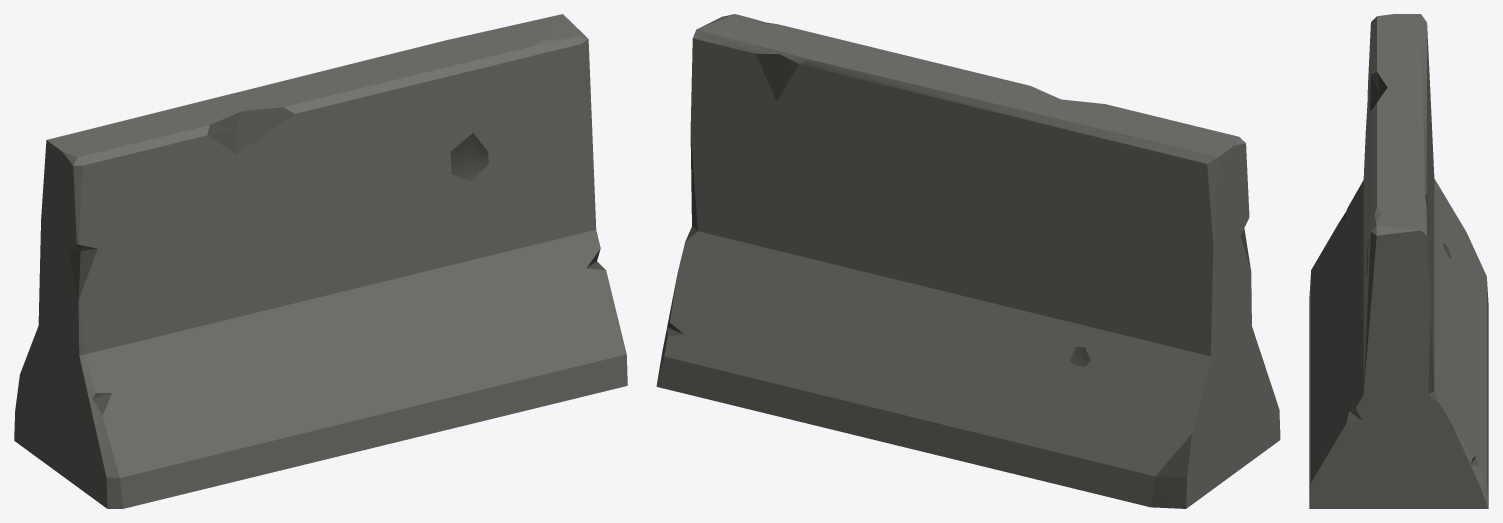
Rendered from 20C_barrier_180.fbx.
The picture shows the model from 3 angles, left to right: view 1: azimuth 30°, elevation 25°; view 2: azimuth 150°, elevation 25°; view 3: azimuth 270°, elevation 25°; orthographic projection. The views are drawn at different scales.
Parts seen in each view (by area): view 1: 20C_barrier_180; view 2: 20C_barrier_180; view 3: 20C_barrier_180.
Part boxes in pixels (x1,y1,x2,y2): 20C_barrier_180: (14,14,627,508); 20C_barrier_180: (656,14,1280,508); 20C_barrier_180: (1309,14,1488,508).
Size of the model in its own units: 30 by 18 by 10.49.
